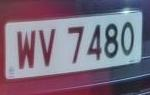0: (119, 17, 137, 57)
4: (84, 19, 103, 66)
7: (63, 21, 88, 66)
8: (103, 18, 120, 61)
V: (37, 24, 59, 74)
W: (15, 25, 39, 77)
